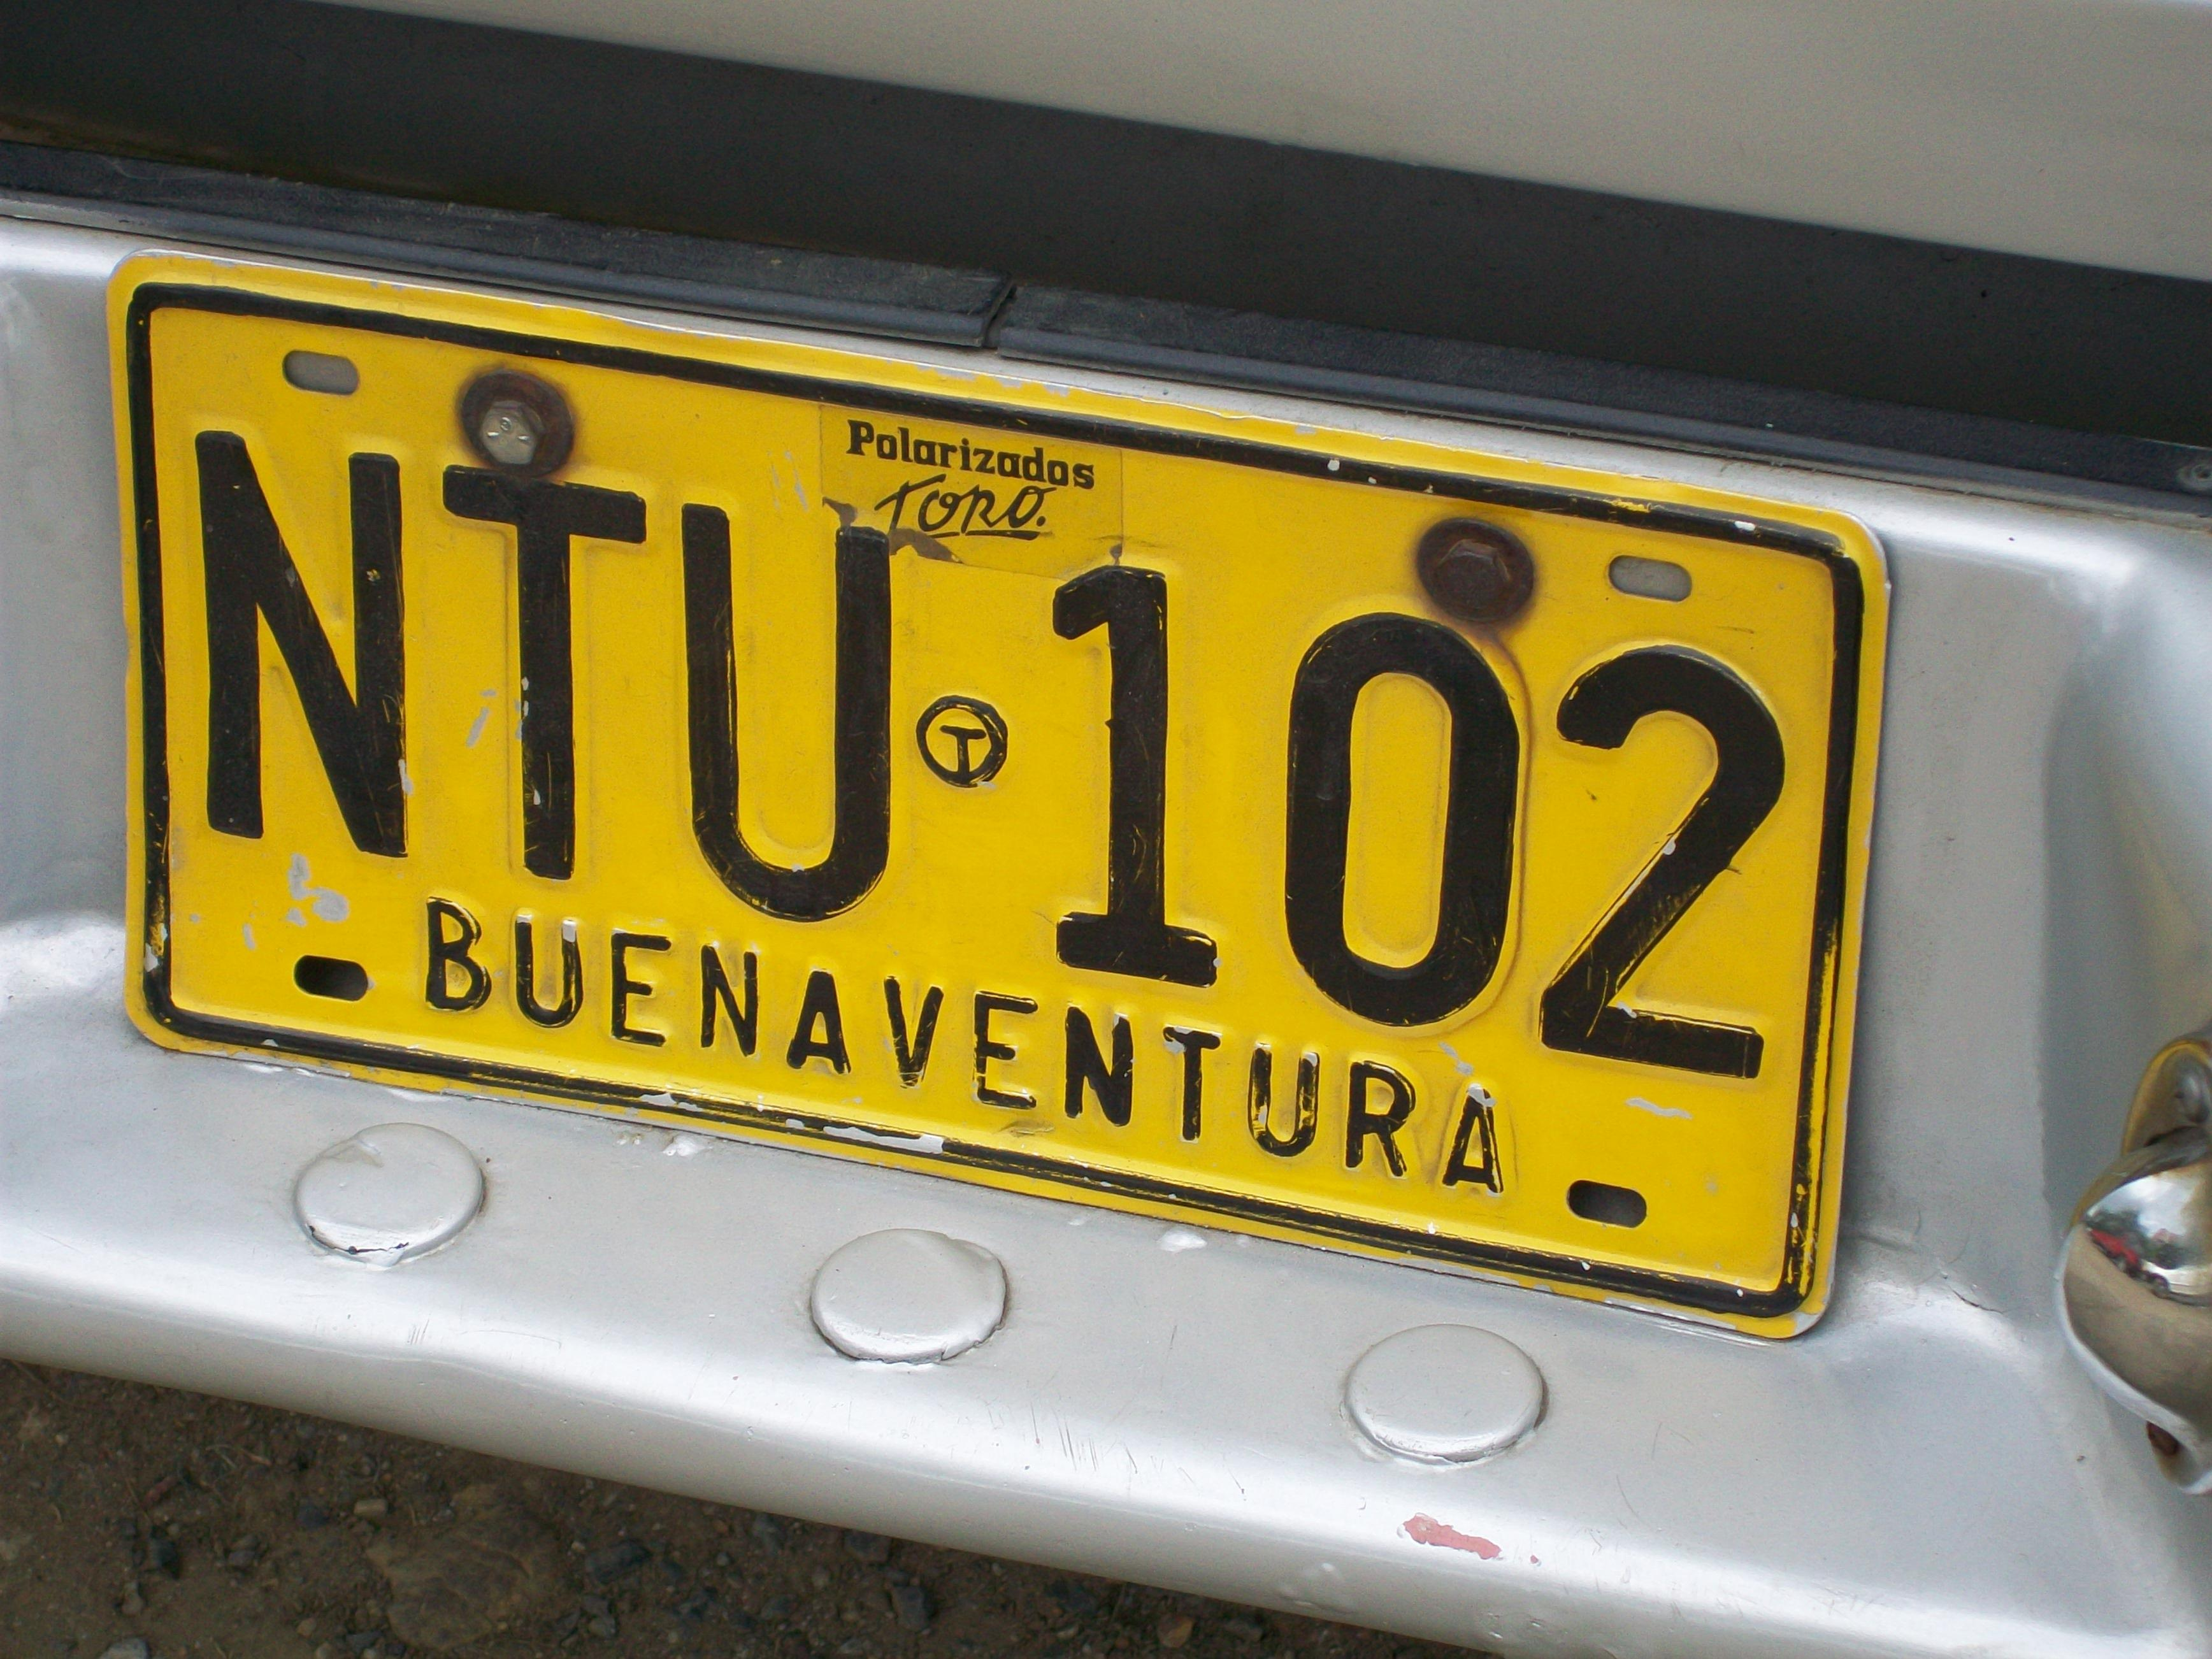placas: (99, 227, 1901, 1350)
